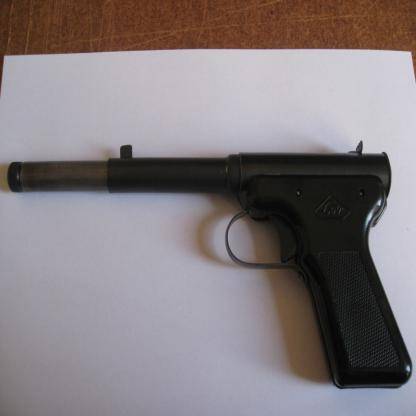Handgun: (7, 140, 412, 389)
